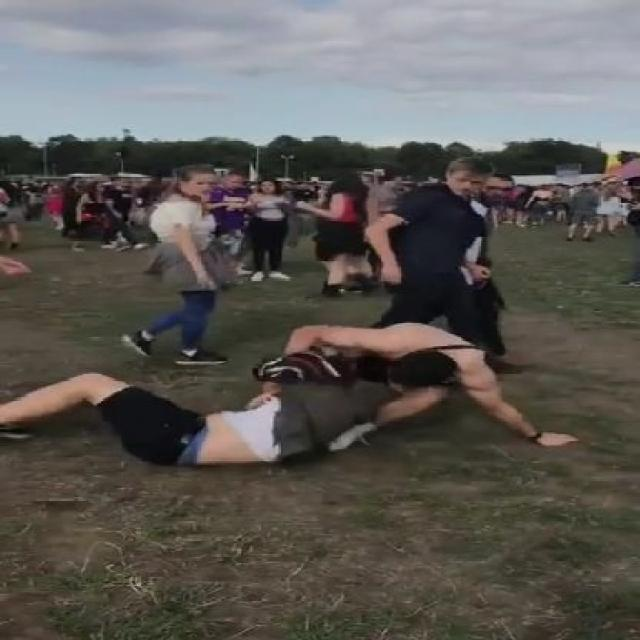fight: (0, 310, 580, 463)
non-fight: (346, 152, 500, 376), (119, 155, 248, 371)
